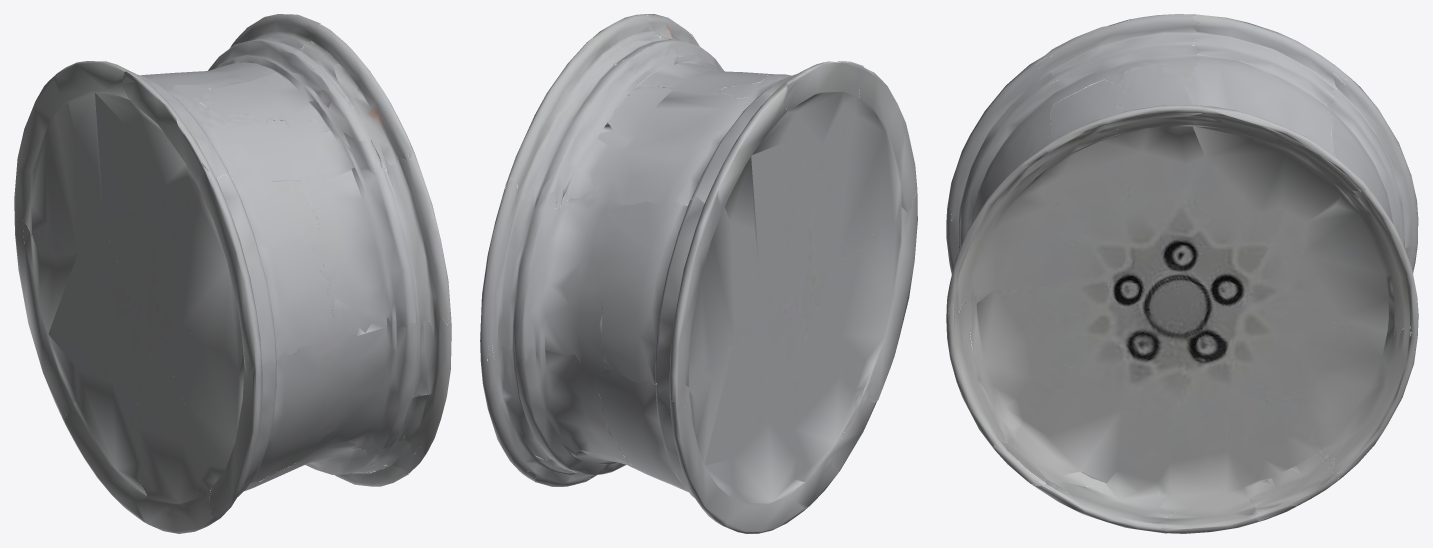
File: golfik_rim.glb
3 renders of one model, left to right at view 1: azimuth 30°, elevation 25°; view 2: azimuth 150°, elevation 25°; view 3: azimuth 270°, elevation 25°, orthographic. The views are drawn at different scales.
Parts seen in each view (by area): view 1: tripo_node_312c5442-f690-4ffd-9e8f-10b51c11ae49; view 2: tripo_node_312c5442-f690-4ffd-9e8f-10b51c11ae49; view 3: tripo_node_312c5442-f690-4ffd-9e8f-10b51c11ae49.
Part boxes in pixels (<box>): tripo_node_312c5442-f690-4ffd-9e8f-10b51c11ae49: <box>14,14,451,533</box>; tripo_node_312c5442-f690-4ffd-9e8f-10b51c11ae49: <box>480,14,917,533</box>; tripo_node_312c5442-f690-4ffd-9e8f-10b51c11ae49: <box>946,14,1418,533</box>.
Bounding box in the file's own units: 0.4723 × 0.9989 × 1.
1 material, 1 textured.
